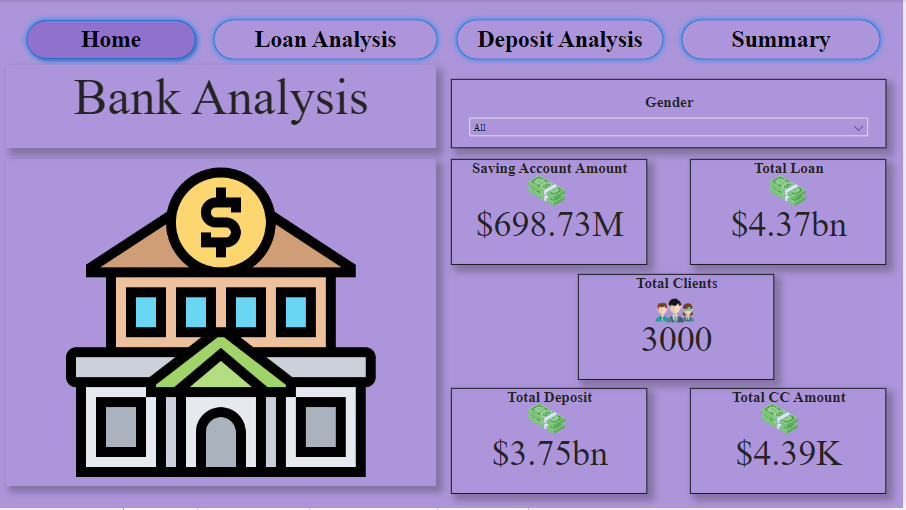

The page's visual inventory and layout, read from the dashboard file:
{"tool":"powerbi","page":{"name":"Home","canvas":[1280,720],"ordinal":0},"visuals":[{"type":"slicer","title":"Gender","fields":{"Values":["Clients - Banking.Gender"]},"box":[640.6,112,616.5,97.8],"z":0},{"type":"card","title":"Saving Account Amount","fields":{"Values":["Banking Relationship.Saving Account Amount"]},"box":[640.6,225.4,277.8,150.2],"z":1000},{"type":"shape","box":[9.9,19.8,297.6,72.3],"z":2000},{"type":"card","title":"Total Loan","fields":{"Values":["Banking Relationship.Total Loan"]},"box":[979.4,225.4,277.8,150.2],"z":3000},{"type":"card","title":"Total Clients","fields":{"Values":["CountNonNull(Clients - Banking.Client ID)"]},"box":[820.6,388.3,277.8,150.2],"z":4000},{"type":"card","title":"Total Deposit","fields":{"Values":["Banking Relationship.Total Deposit"]},"box":[640.6,549.9,277.8,150.2],"z":5000},{"type":"card","title":"Total CC Amount","fields":{"Values":["Banking Relationship.Total CC Amount"]},"box":[979.4,549.9,277.8,150.2],"z":6000},{"type":"shape","box":[959.5,19.8,297.6,72.3],"z":7000},{"type":"image","box":[884.4,415.3,148.8,48.2],"z":8000},{"type":"image","box":[703,238.1,146,63.8],"z":9000},{"type":"image","box":[1044.6,238.1,146,63.8],"z":10000},{"type":"image","box":[9.9,225.4,609.4,463.5],"z":11000},{"type":"textbox","box":[9.9,92.1,609.4,117.6],"z":12000},{"type":"image","box":[703,561.3,146,63.8],"z":13000},{"type":"image","box":[1033.2,561.3,146,63.8],"z":14000},{"type":"shape","box":[640.6,19.8,309,72.3],"z":15000},{"type":"shape","box":[296.2,19.8,333.1,72.3],"z":16000}]}

Visuals, with their boxes in screenshot pixels (x1, y1, x2, y2), scaled from the page's 1280x720 canvas onto the 906x510 screenshot:
"Gender" slicer: 453,79,890,149
"Saving Account Amount" card: 453,160,650,266
shape: 7,14,218,65
"Total Loan" card: 693,160,890,266
"Total Clients" card: 581,275,777,381
"Total Deposit" card: 453,390,650,496
"Total CC Amount" card: 693,390,890,496
shape: 679,14,890,65
image: 626,294,731,328
image: 498,169,601,214
image: 739,169,843,214
image: 7,160,438,488
textbox: 7,65,438,149
image: 498,398,601,443
image: 731,398,835,443
shape: 453,14,672,65
shape: 210,14,445,65
